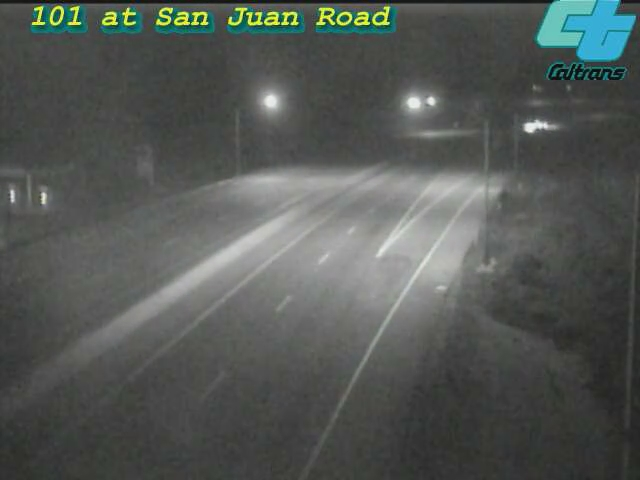vehicle: (517, 100, 567, 150), (507, 103, 557, 153)
